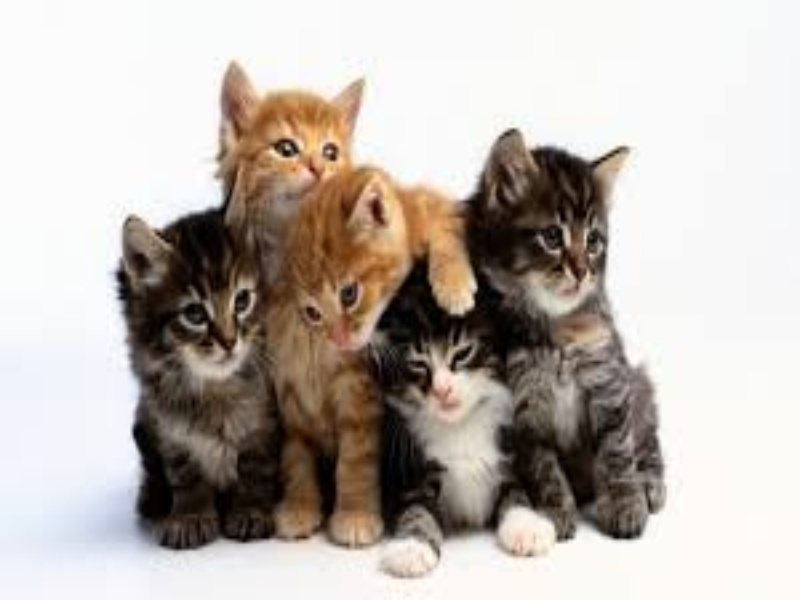cat: (492, 133, 674, 540), (110, 212, 288, 560), (385, 306, 555, 576), (280, 182, 478, 351), (205, 59, 368, 189)
